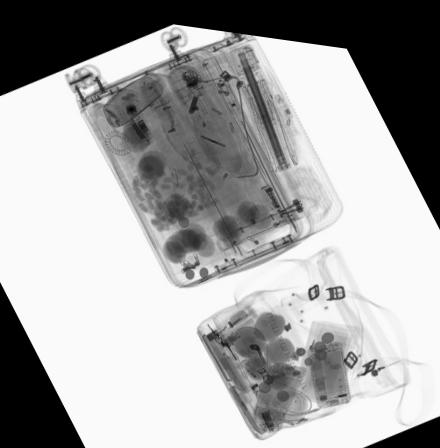Lighter: (237, 349, 267, 376)
